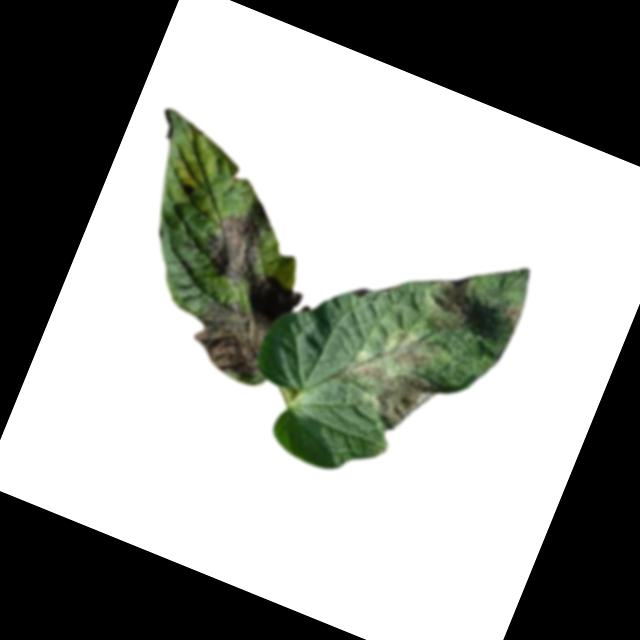Late_blight: (184, 257, 306, 393), (337, 351, 442, 441), (196, 207, 270, 289), (382, 325, 441, 378), (426, 266, 478, 320), (496, 299, 525, 328)
